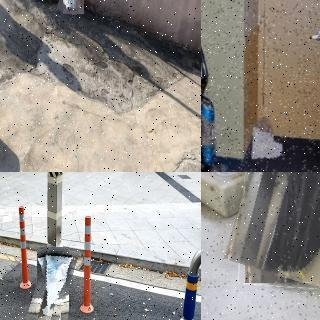Garbage: (234, 172, 320, 291), (32, 245, 73, 320), (59, 0, 87, 14)
